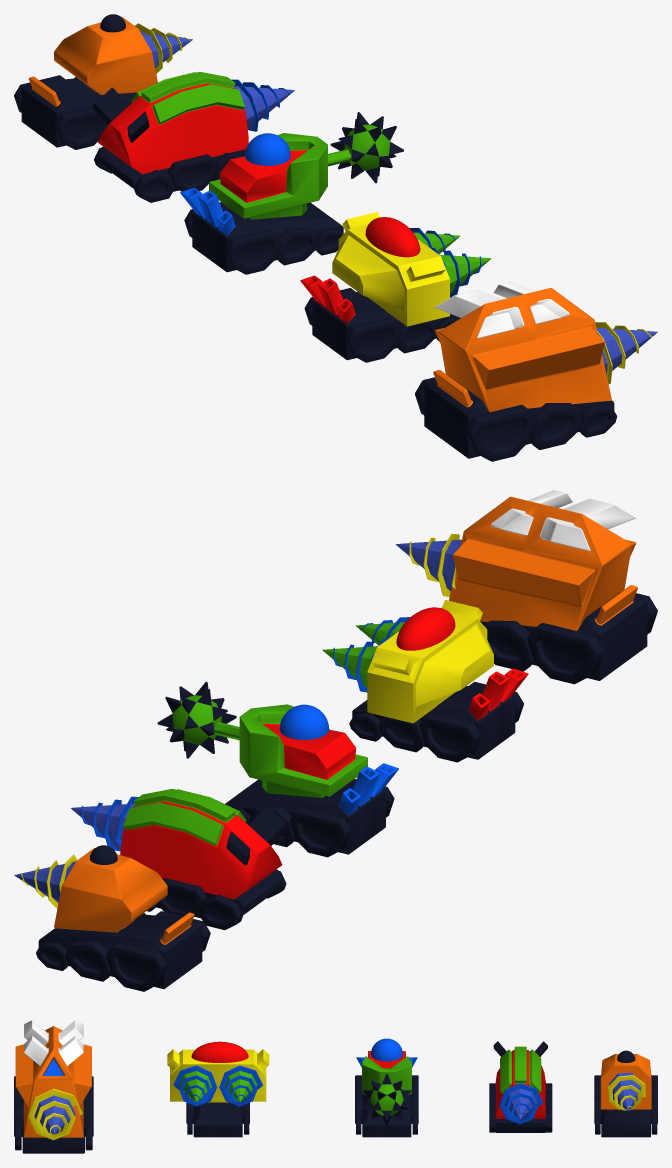
The model's file is Drill_pack.fbx.
The picture shows the model from 3 angles, top to bottom: view 1: azimuth 30°, elevation 25°; view 2: azimuth 150°, elevation 25°; view 3: azimuth 270°, elevation 25°; orthographic projection. The views are drawn at different scales.
Visible parts, largest first — view 1: Head.005, Head.002, Head.004, Head.003, Track.005, Head.001, 3lvl_Base.003, Track.003, 4lvl_Base.004, 5lvl_Base.005, 1lvl_Base.001, Track.004 (+10 smaller); view 2: Head.005, Head.002, Head.004, Head.003, Head.001, Track.005, 3lvl_Base.003, 1lvl_Base.001, Track.001, Track.004, 4lvl_Base.004, 5lvl_Base.005 (+10 smaller); view 3: Head.005, Drill.004, Head.002, Head.004, Drill.005, 4lvl_Base.004, Head.001, 1lvl_Base.001, 3lvl_Base.003, Drill.003, Head.003, Drill.002 (+10 smaller).
Part boxes in pixels (x1,y1,x2,y2): Head.005: [434, 281, 611, 412]; Head.002: [92, 71, 248, 174]; Head.004: [332, 212, 449, 326]; Head.003: [209, 133, 351, 219]; Track.005: [415, 377, 617, 461]; Head.001: [54, 16, 157, 94]; 3lvl_Base.003: [180, 187, 343, 272]; Track.003: [184, 202, 343, 274]; 4lvl_Base.004: [300, 275, 458, 360]; 5lvl_Base.005: [424, 370, 614, 458]; 1lvl_Base.001: [21, 76, 136, 147]; Track.004: [304, 288, 460, 362]; Head.005: [449, 490, 636, 630]; Head.002: [120, 789, 288, 899]; Head.004: [367, 600, 493, 723]; Head.003: [214, 704, 367, 797]; Head.001: [54, 848, 167, 932]; Track.005: [484, 593, 657, 684]; 3lvl_Base.003: [225, 763, 398, 854]; 1lvl_Base.001: [38, 912, 202, 989]; Track.001: [36, 911, 210, 991]; Track.004: [349, 682, 523, 762]; 4lvl_Base.004: [352, 668, 528, 759]; 5lvl_Base.005: [480, 585, 647, 680]; Head.005: [15, 1020, 91, 1137]; Drill.004: [173, 1065, 262, 1106]; Head.002: [493, 1041, 547, 1118]; Head.004: [167, 1049, 269, 1102]; Drill.005: [28, 1088, 82, 1140]; 4lvl_Base.004: [193, 1102, 242, 1137]; Head.001: [600, 1054, 651, 1109]; 1lvl_Base.001: [601, 1109, 650, 1137]; 3lvl_Base.003: [356, 1057, 417, 1137]; Drill.003: [362, 1074, 411, 1125]; Head.003: [362, 1051, 411, 1095]; Drill.002: [499, 1083, 543, 1124].
Size of the model in its own units: 264 by 154 by 959.
Materials: 1 (1 with a texture image).
